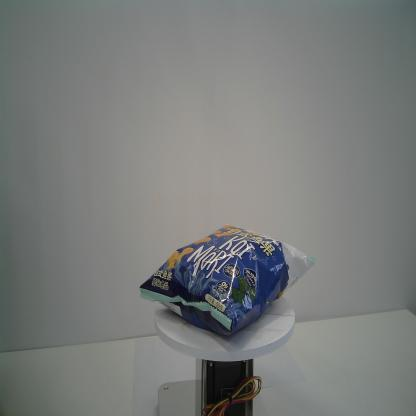Puffed Food: (139, 223, 317, 336)
